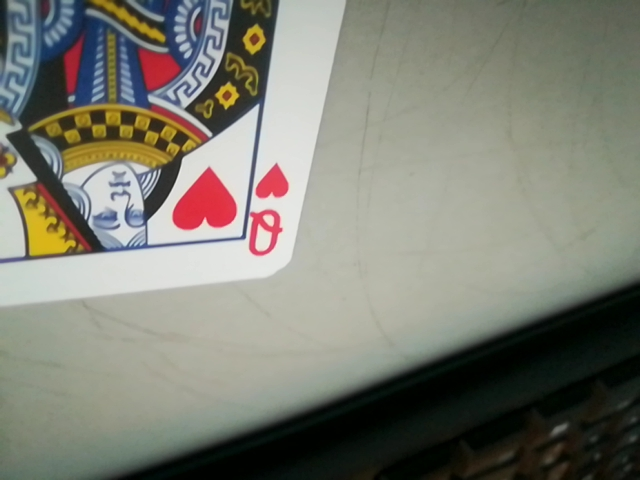hx q: (248, 156, 302, 255)
